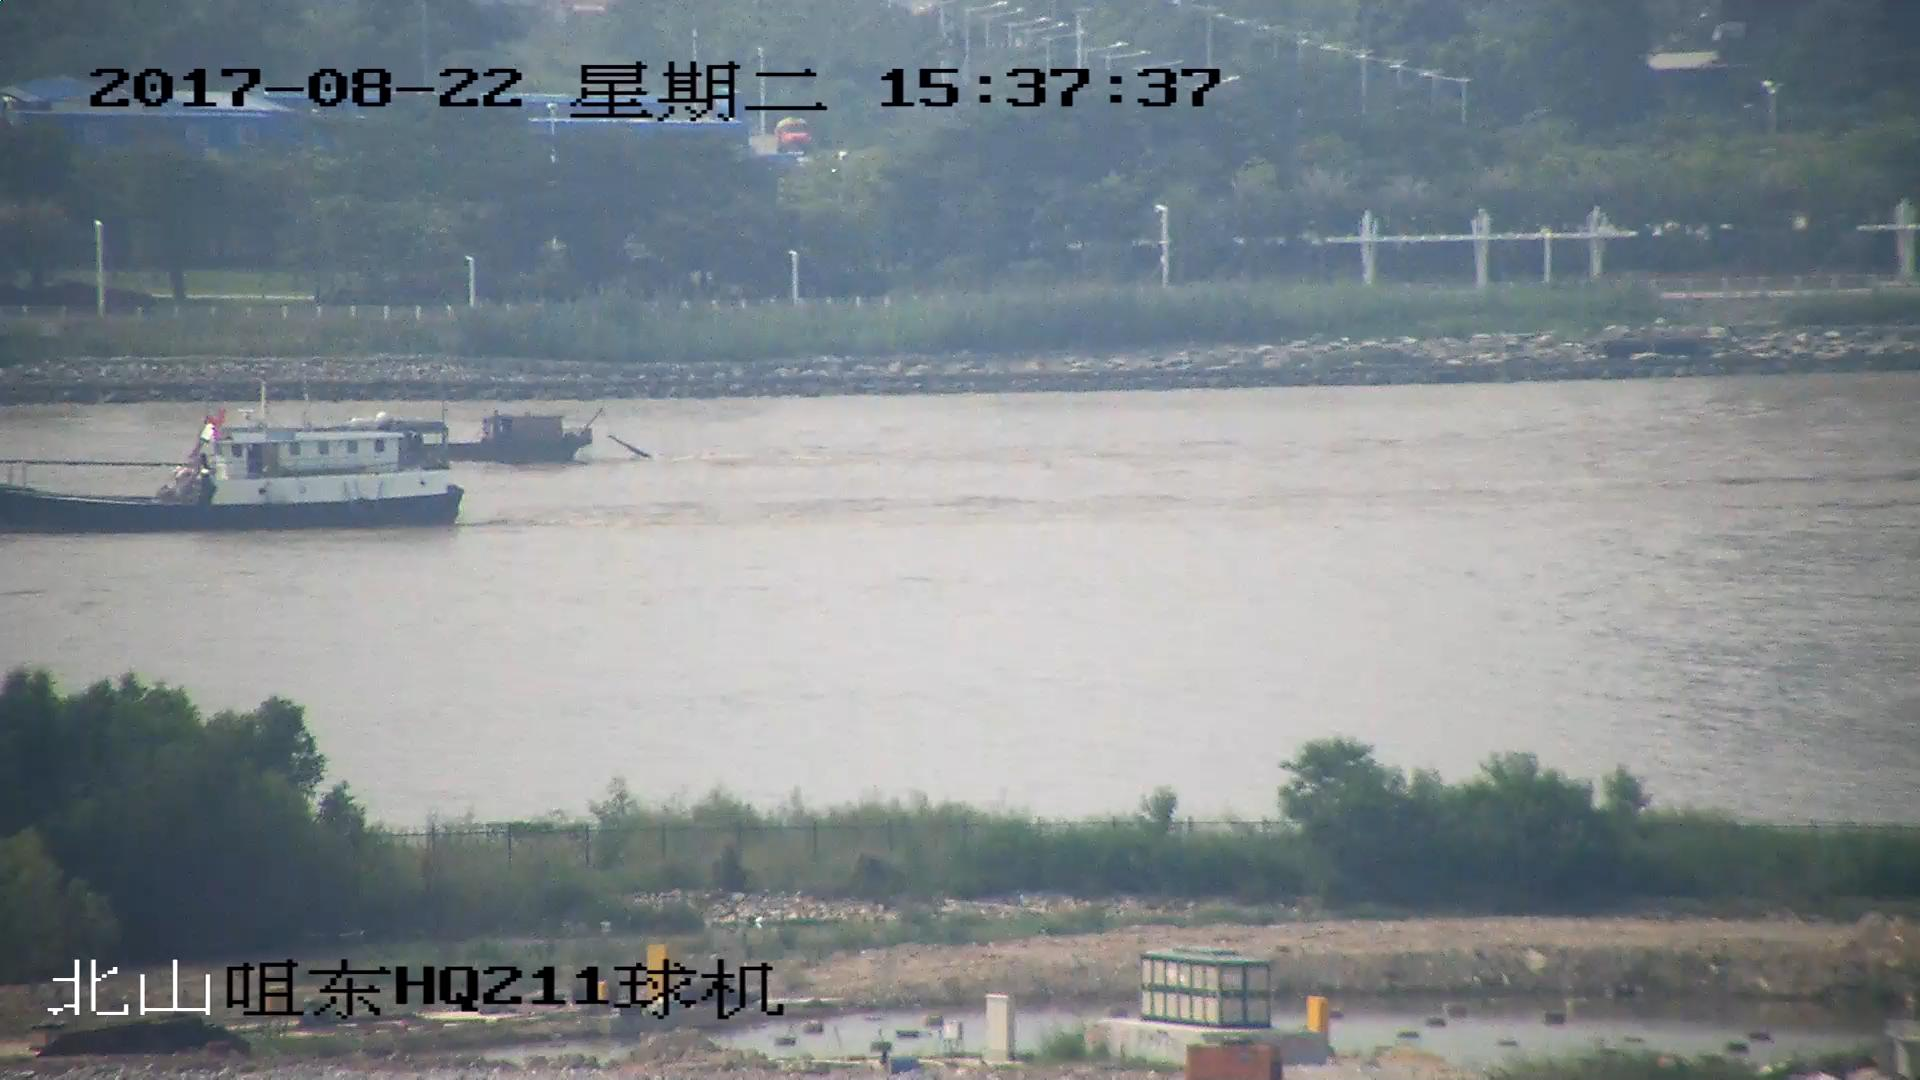fishing boat: (1, 412, 476, 533), (402, 414, 655, 465)
